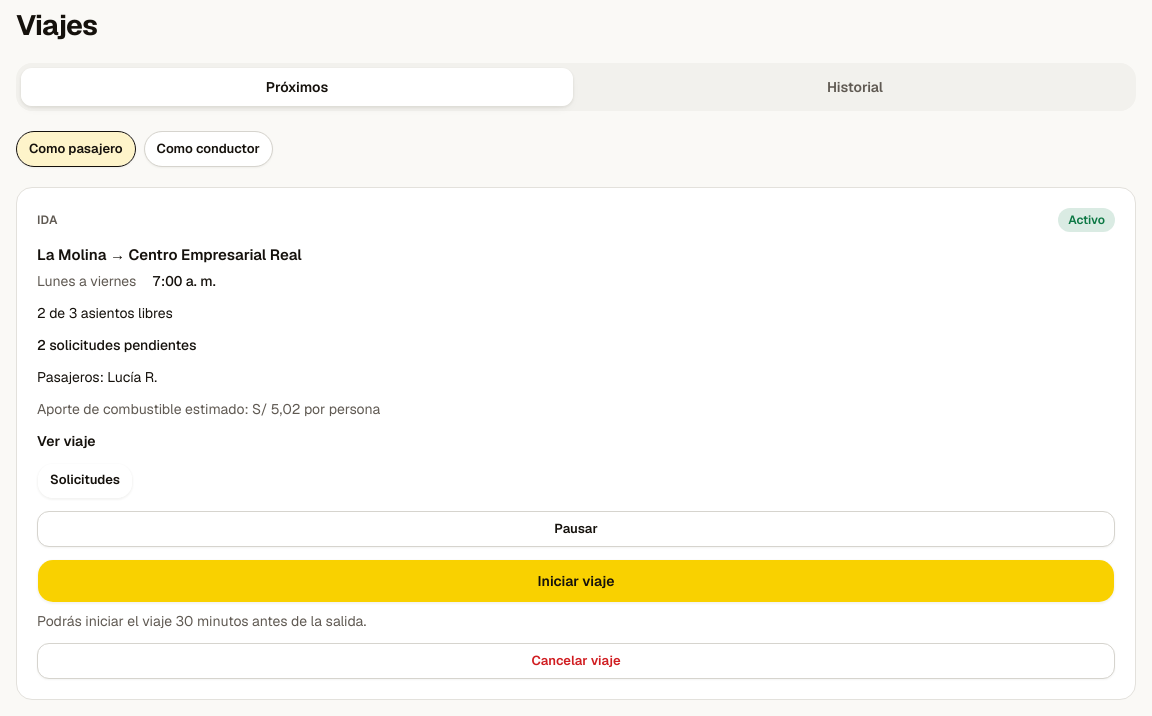
Viajes › pauses an active offer and lets the driver reactivate it
Step 1. Click the button "Como conductor" → (208, 149), box [144,131,273,167]
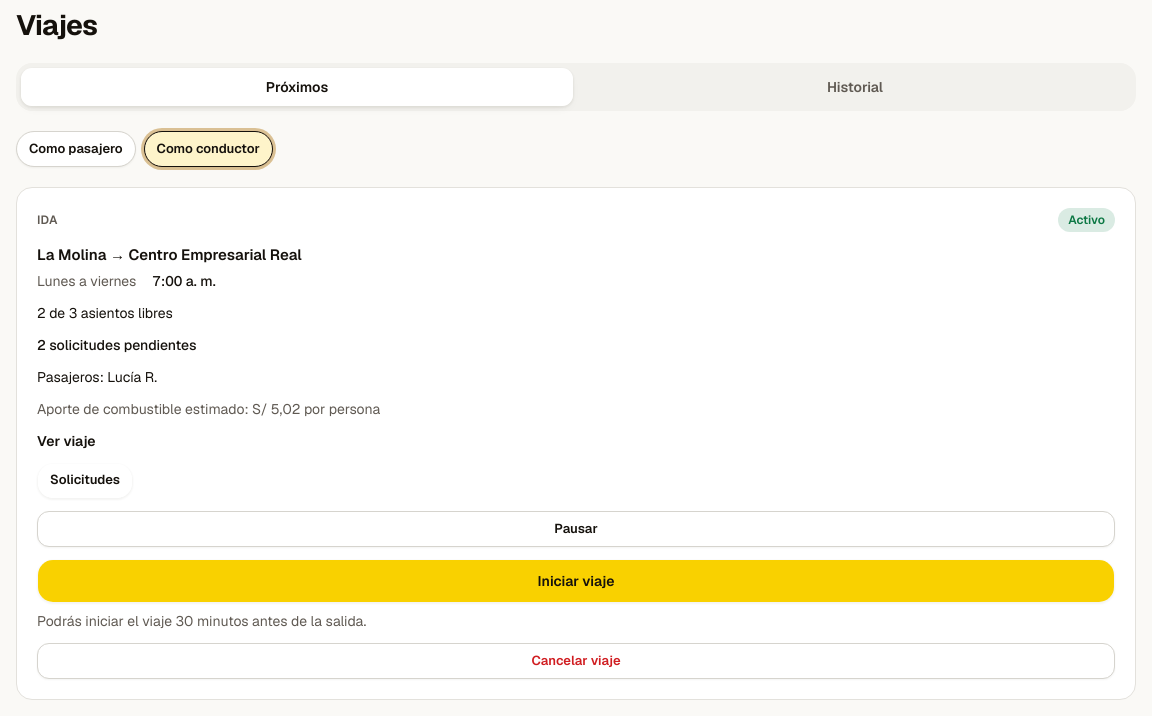
Step 2. Click the button "Pausar" → (576, 528), box [37,510,1115,546]
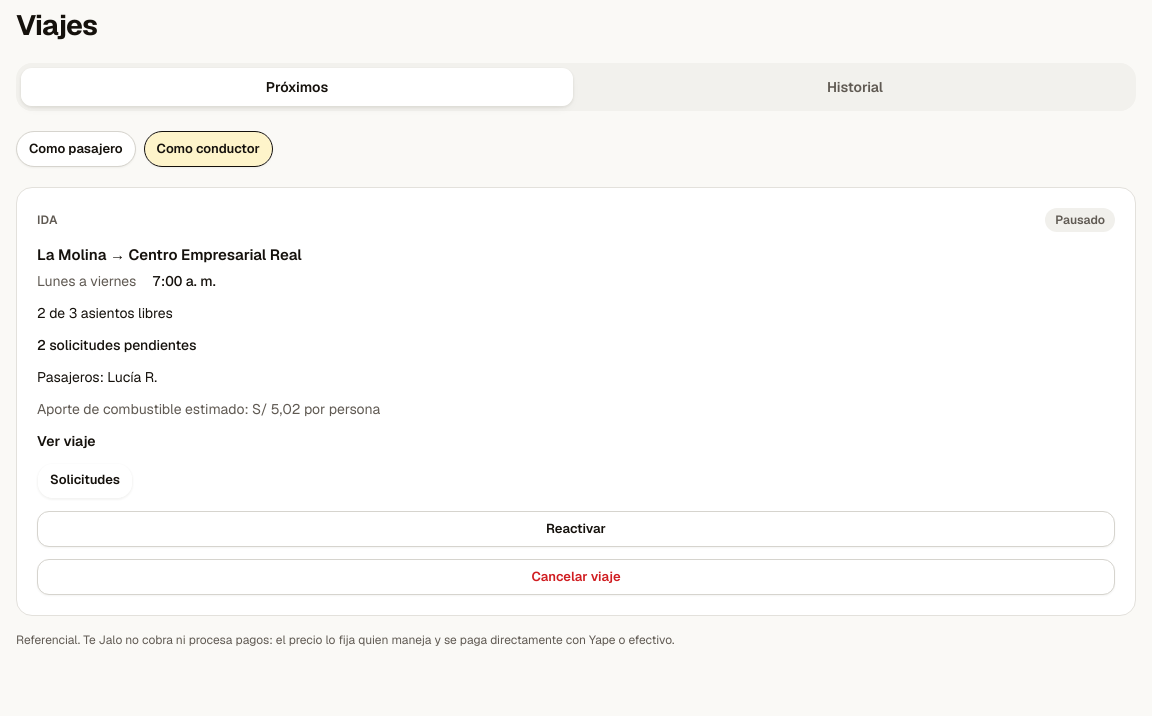
Expected: the text "Pausado" is shown, [1045,208,1115,232]
Expected: the button "Reactivar" is shown, [37,510,1115,546]
